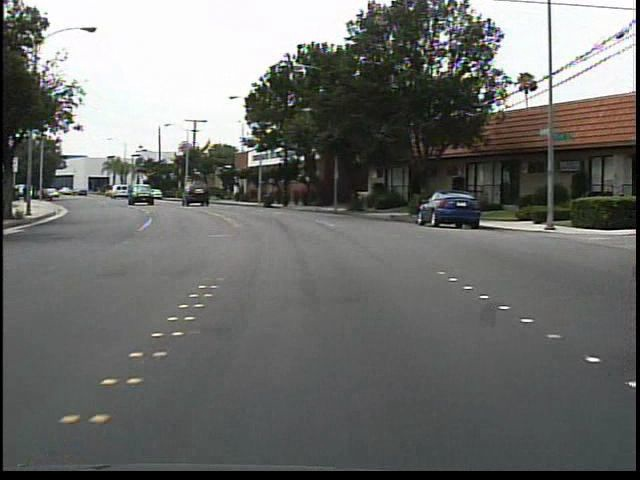person: (22, 183, 29, 205)
